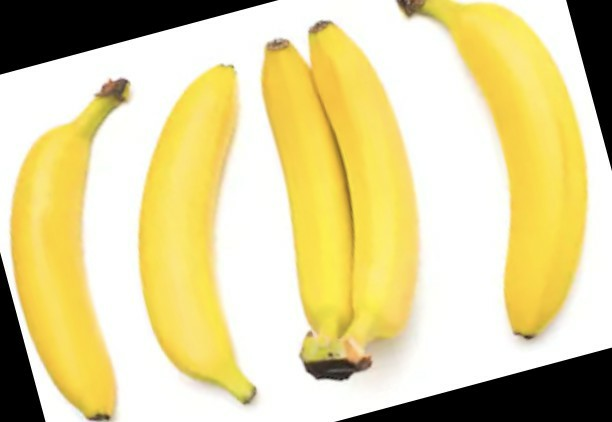fresh_banana: (398, 1, 588, 343), (259, 41, 420, 374), (15, 83, 133, 420), (140, 65, 254, 405)
